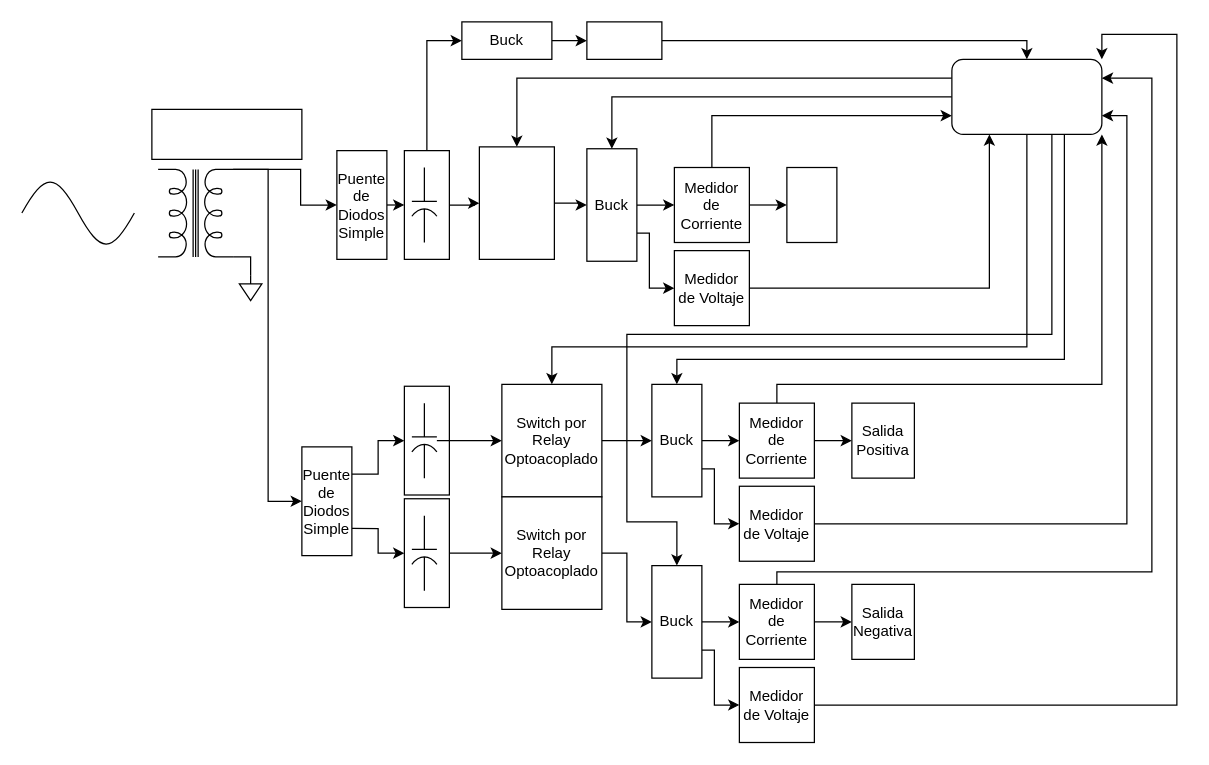
Some shapes in this 1209 by 765 pixel diagram are drawn without their labels. Each missing label, with the centre of its shape:
Fusible Electronico: (516,202)
LDO: (624,40)
Microcontrolador: (1026,96)
Salida: (811,204)
Transformador Sal -> 24VAC: (226,133)
